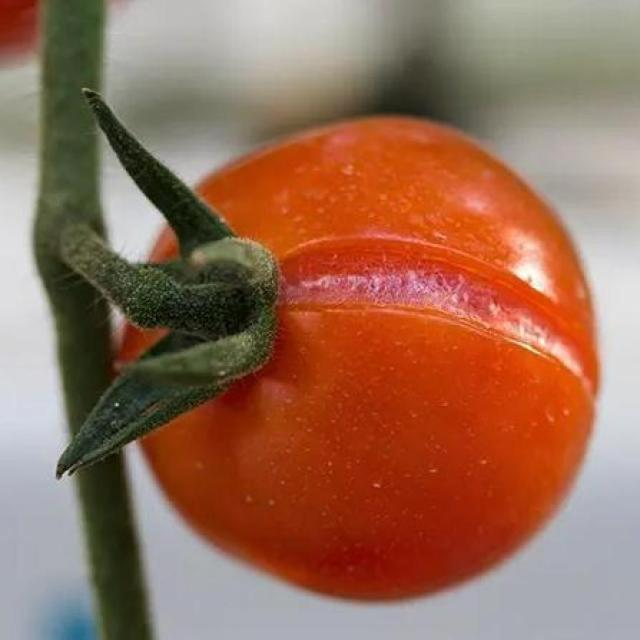Sunscald Fruit: (150, 147, 398, 295)
